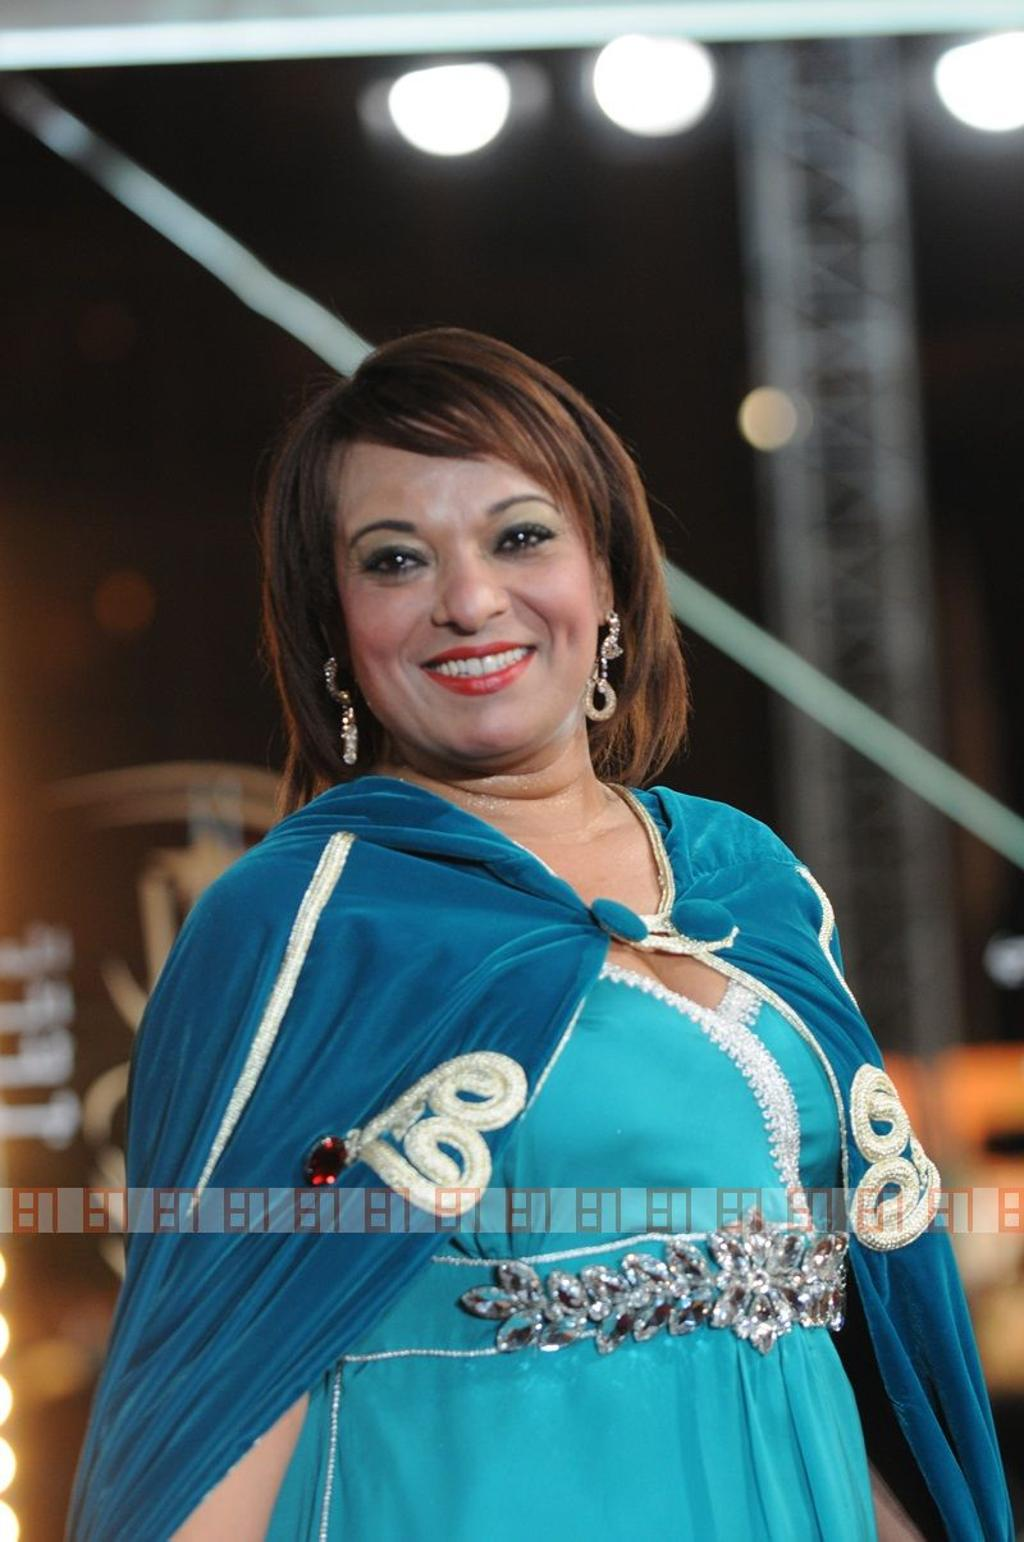face: (329, 423, 606, 760)
